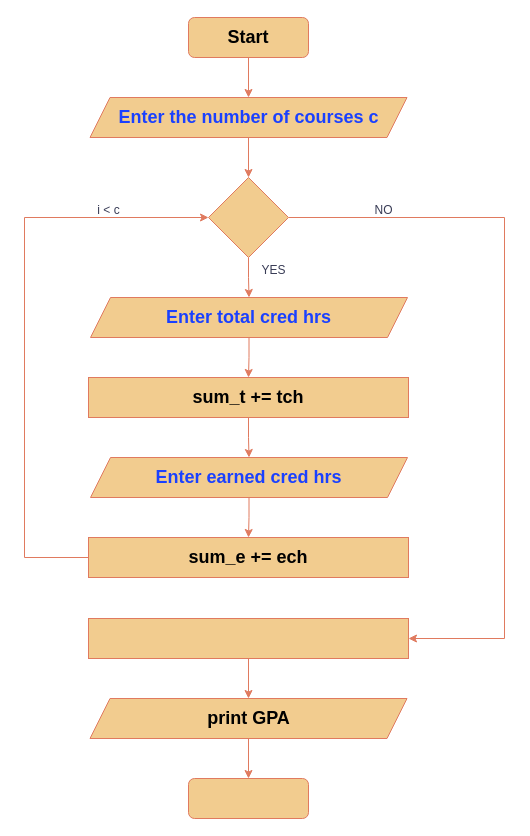
Some shapes in this 530 by 836 pixel diagram are drawn without their labels. Here are the shapes that lost their labels. From the top down, the centre of each, then its label:
(248,217): i = 0;
(248,638): GPA = (sume / sumt) * 4
(248,798): Stop
